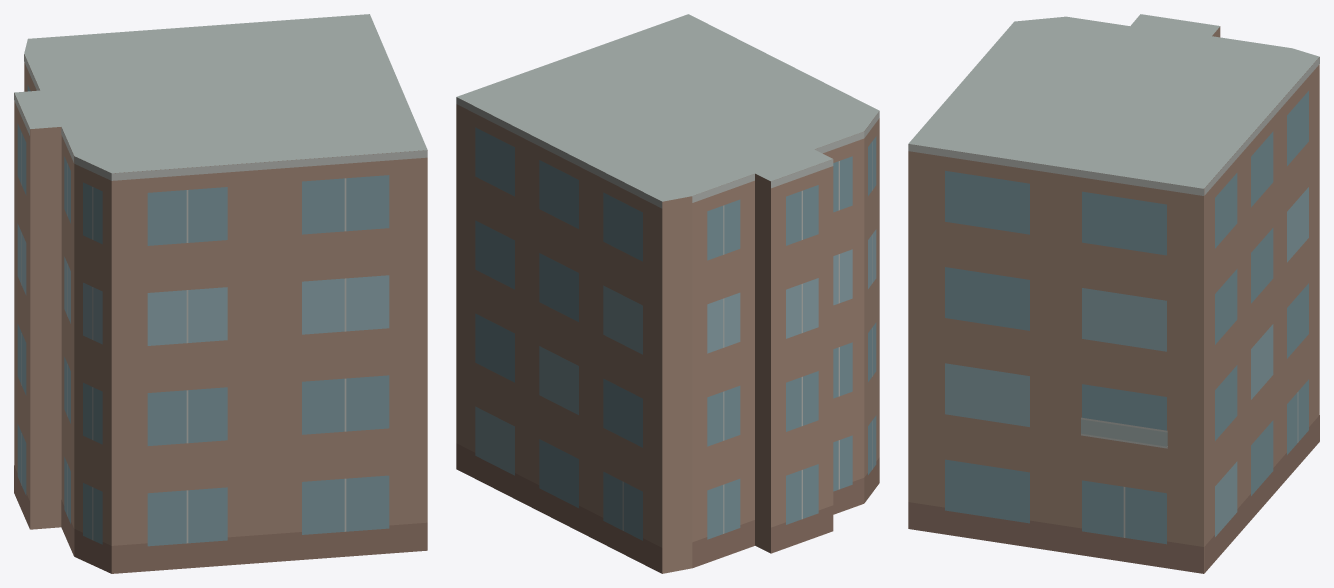
The model's file is survey-upis-32632191.glb.
The picture shows the model from 3 angles, left to right: view 1: azimuth 30°, elevation 25°; view 2: azimuth 150°, elevation 25°; view 3: azimuth 270°, elevation 25°; orthographic projection. The views are drawn at different scales.
Parts seen in each view (by area): view 1: survey-upis-32632191.tmp; view 2: survey-upis-32632191.tmp; view 3: survey-upis-32632191.tmp.
Part boxes in pixels (x1,y1,x2,y2): survey-upis-32632191.tmp: (14,14,427,573); survey-upis-32632191.tmp: (456,14,879,573); survey-upis-32632191.tmp: (908,14,1319,573).
Size of the model in its own units: 12.57 by 12.9 by 12.5.
